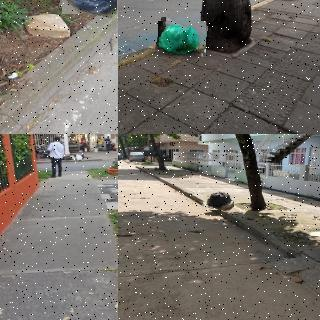Garbage: (157, 19, 207, 59), (60, 0, 118, 16), (203, 189, 235, 211), (76, 154, 84, 161), (63, 155, 72, 160), (69, 155, 76, 160)
